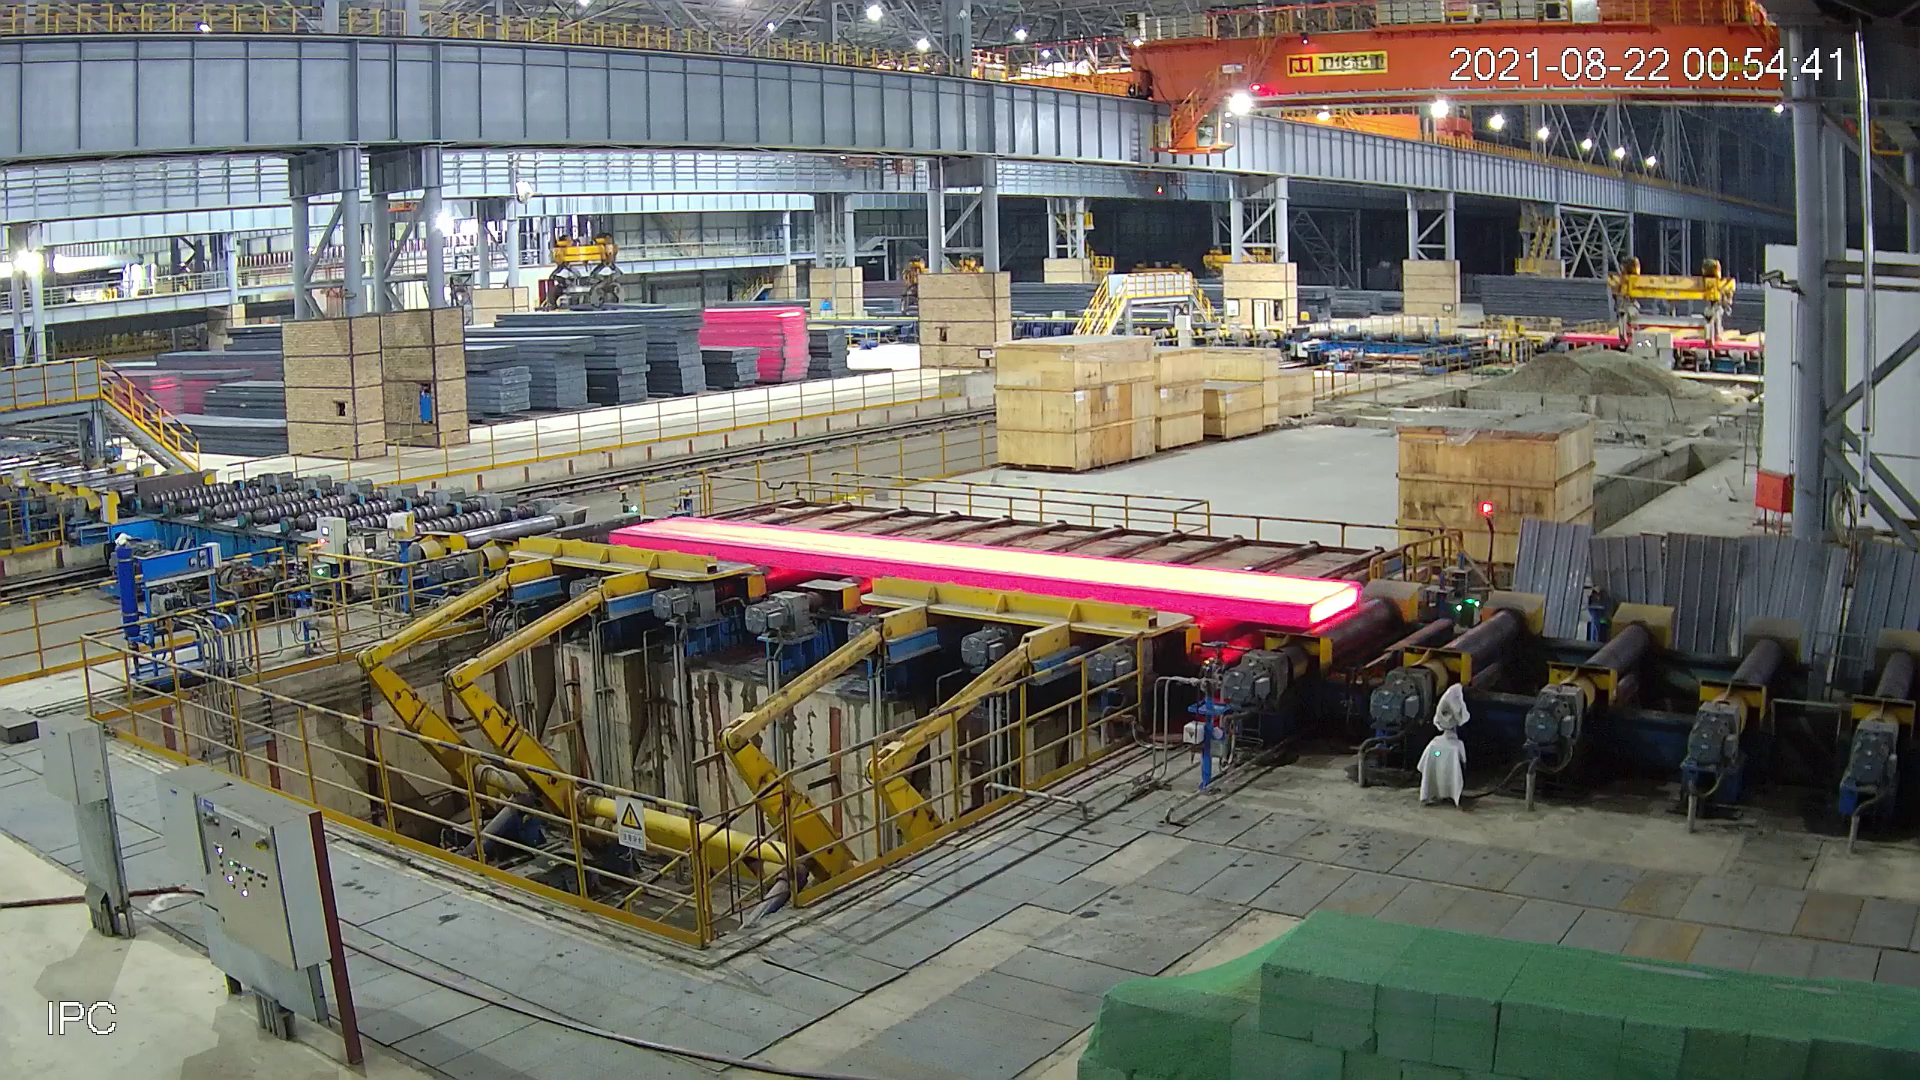crane: (1002, 291, 1412, 612)
slab: (806, 753, 1462, 827)
